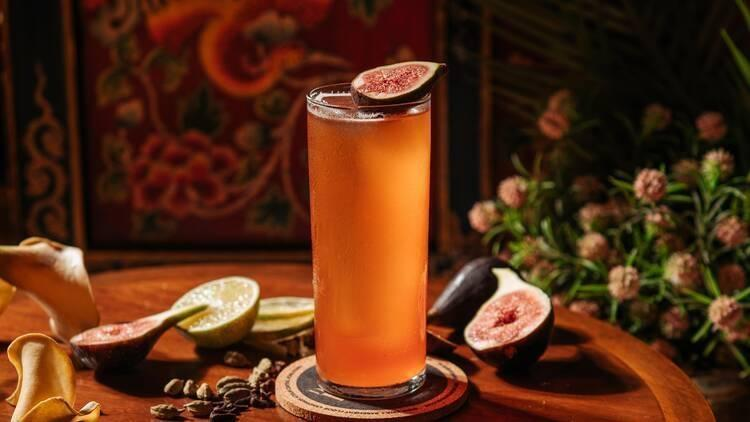glass-normal: (300, 76, 437, 401)
